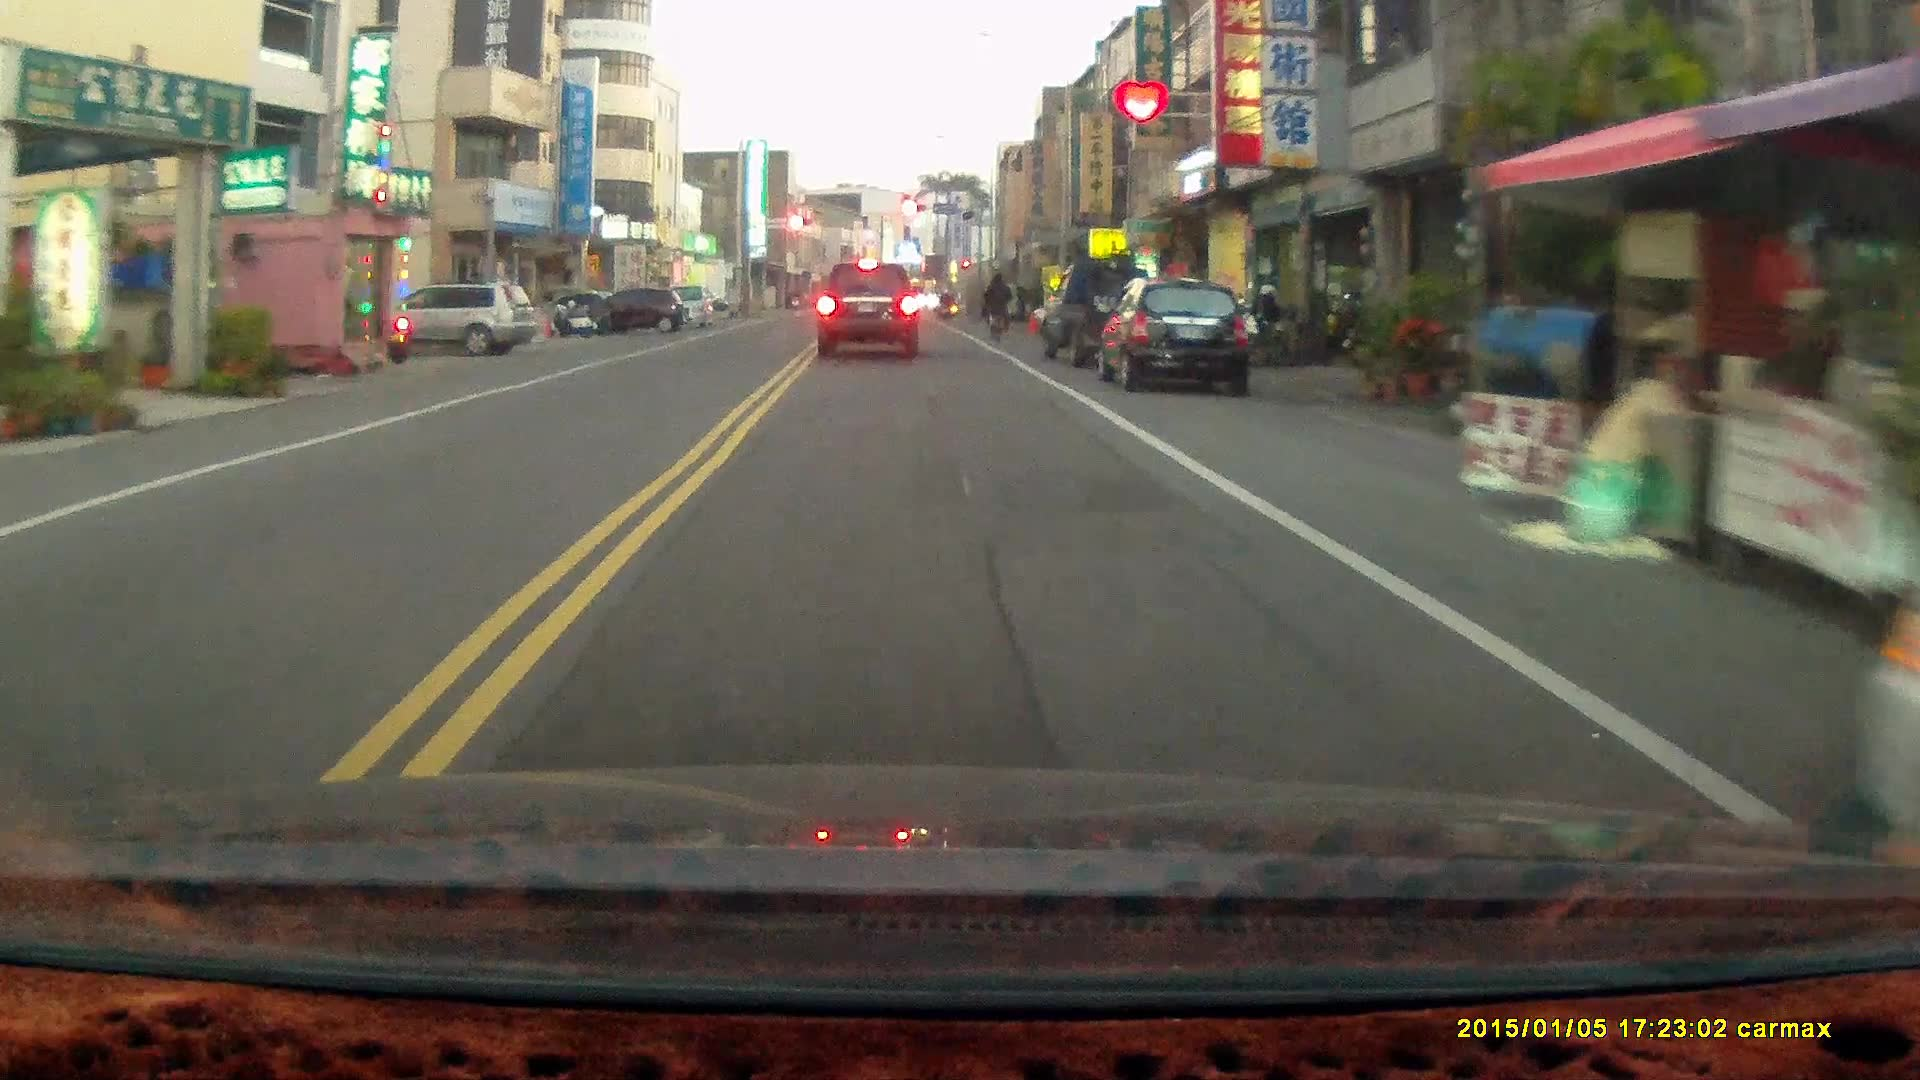rider: (980, 269, 1011, 340)
vehicle: (1101, 281, 1259, 399), (350, 282, 537, 352), (815, 261, 923, 361), (566, 291, 688, 337)
